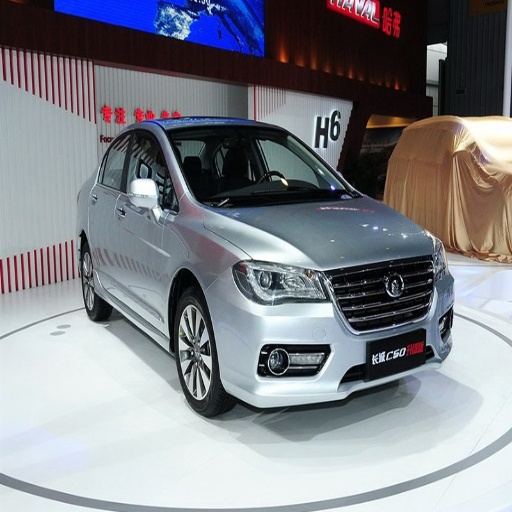front_bumper: (211, 255, 450, 407)
front_right_door: (118, 128, 176, 323)
front_right_light: (233, 259, 327, 303)
